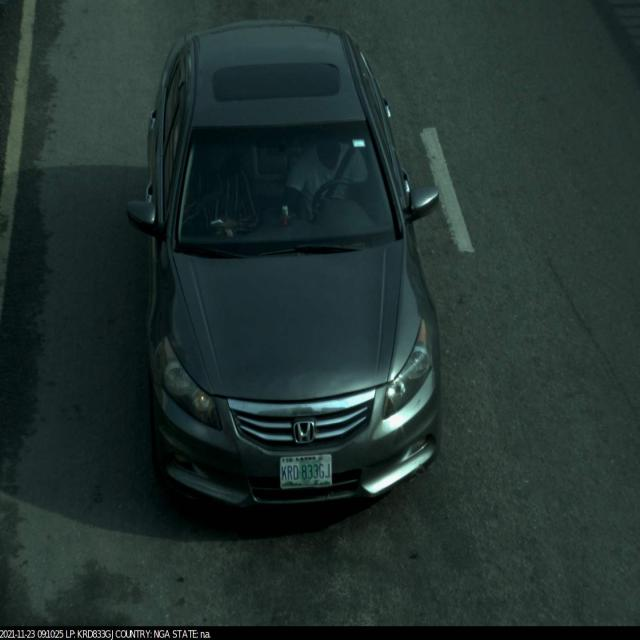windshield: (159, 110, 411, 277)
